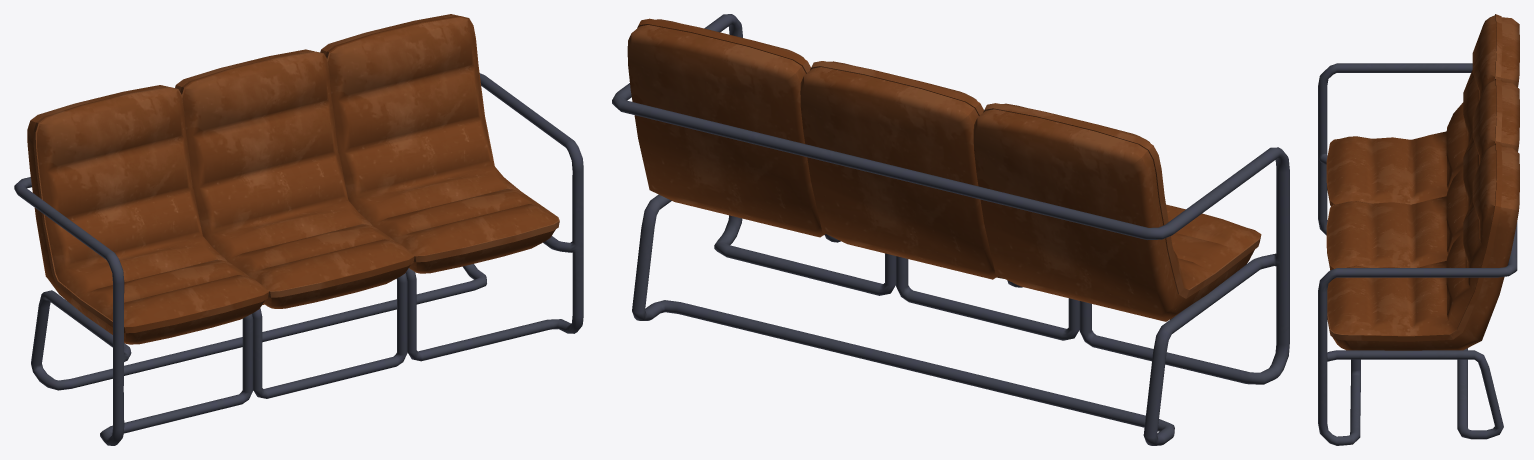
The model's file is pm-long-chair.glb.
3 views of the same model, side by side, from view 1: azimuth 30°, elevation 25°; view 2: azimuth 150°, elevation 25°; view 3: azimuth 270°, elevation 25° (orthographic). The views are drawn at different scales.
Parts seen in each view (by area): view 1: Long_Chair; view 2: Long_Chair; view 3: Long_Chair.
Part boxes in pixels (left/top/right/bottom): Long_Chair: left=14, top=14, right=583, bottom=445; Long_Chair: left=612, top=14, right=1289, bottom=445; Long_Chair: left=1318, top=14, right=1519, bottom=445.
Size of the model in its own units: 2.22 by 1.19 by 0.9081.
2 materials, 2 textured.
